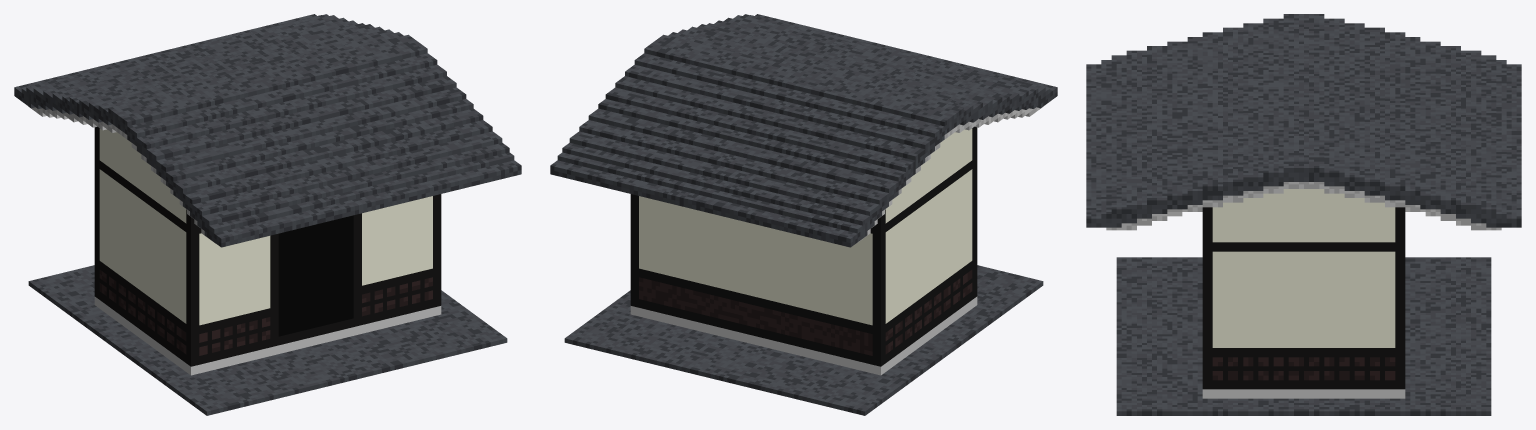
File: 0Build6.obj
The picture shows the model from 3 angles, left to right: view 1: azimuth 30°, elevation 25°; view 2: azimuth 150°, elevation 25°; view 3: azimuth 270°, elevation 25°; orthographic projection. The views are drawn at different scales.
Bounding box in the file's own units: 7.2 × 5.4 × 8.6.
1 material, 1 textured.
